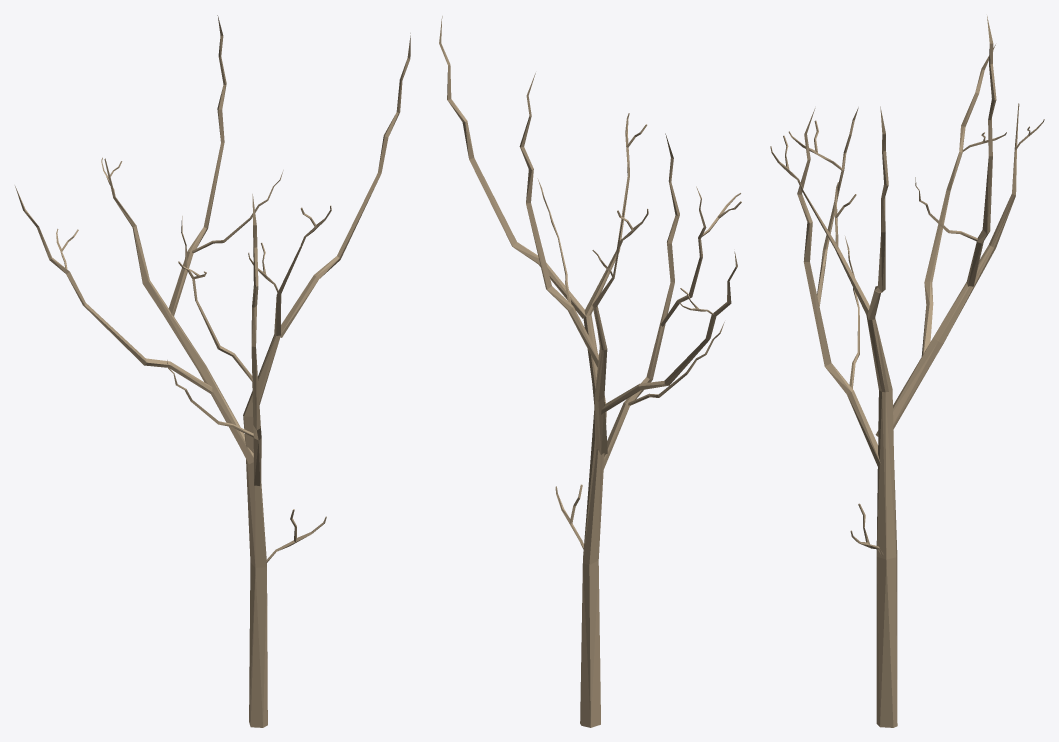
File: arvore_seca.glb
3 renders of one model, left to right at view 1: azimuth 30°, elevation 25°; view 2: azimuth 150°, elevation 25°; view 3: azimuth 270°, elevation 25°, orthographic. The views are drawn at different scales.
Visible parts, largest first — view 1: Branches01, Branch03_4, Branch03_3; view 2: Branches01, Branch03_4, Branch03_3; view 3: Branches01, Branch03_4, Branch03_3.
Boxes of the visible parts, x1,y1,x2,y2 form: Branches01: (15,33,410,727); Branch03_4: (167,194,261,485); Branch03_3: (168,15,283,315); Branches01: (439,16,741,727); Branch03_4: (603,133,724,469); Branch03_3: (519,73,598,366); Branches01: (770,44,1044,727); Branch03_4: (797,108,880,466); Branch03_3: (915,16,996,286).
Size of the model in its own units: 95.61 by 180 by 62.71.
